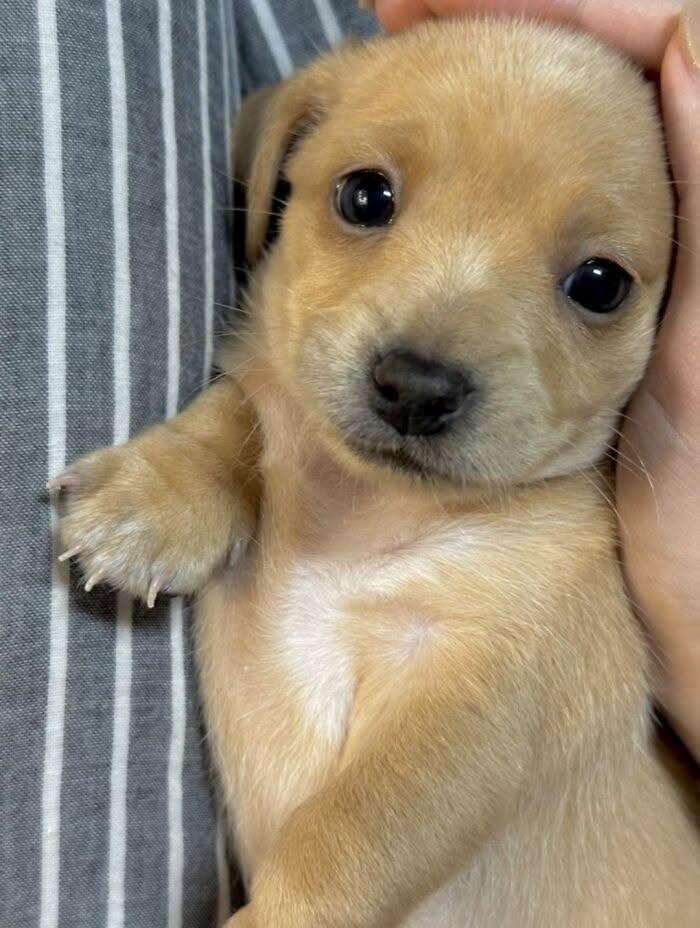puppy-dog: (38, 14, 700, 928)
